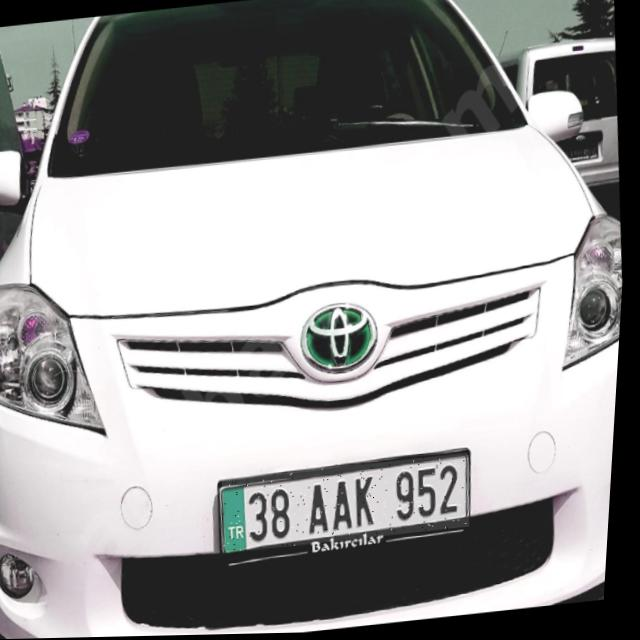license_plate: (224, 455, 479, 554)
